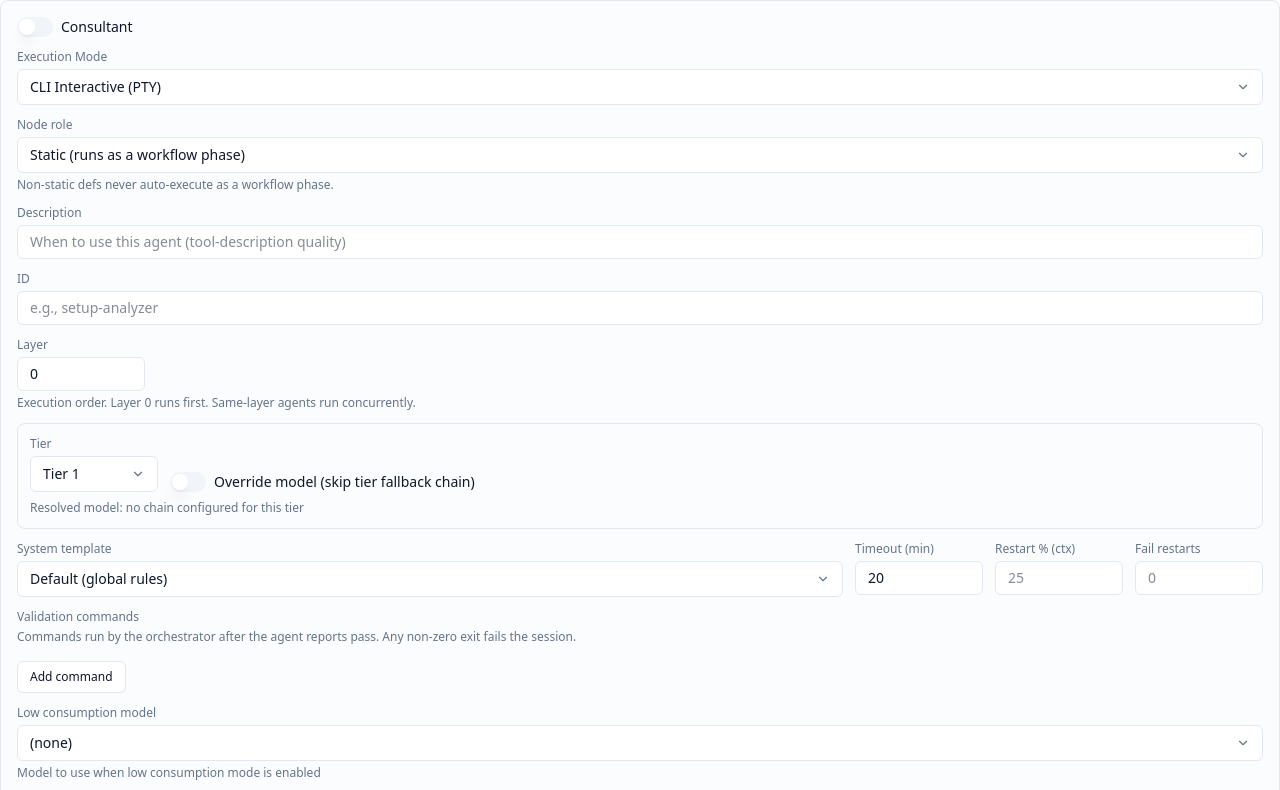
Test: AgentDefForm — consultant toggle › Layer and Restart fields visible again after toggling OFF
Click the switch named "Consultant" next to "Consultant" at point(35, 27), box left=17, top=17, right=53, bottom=37
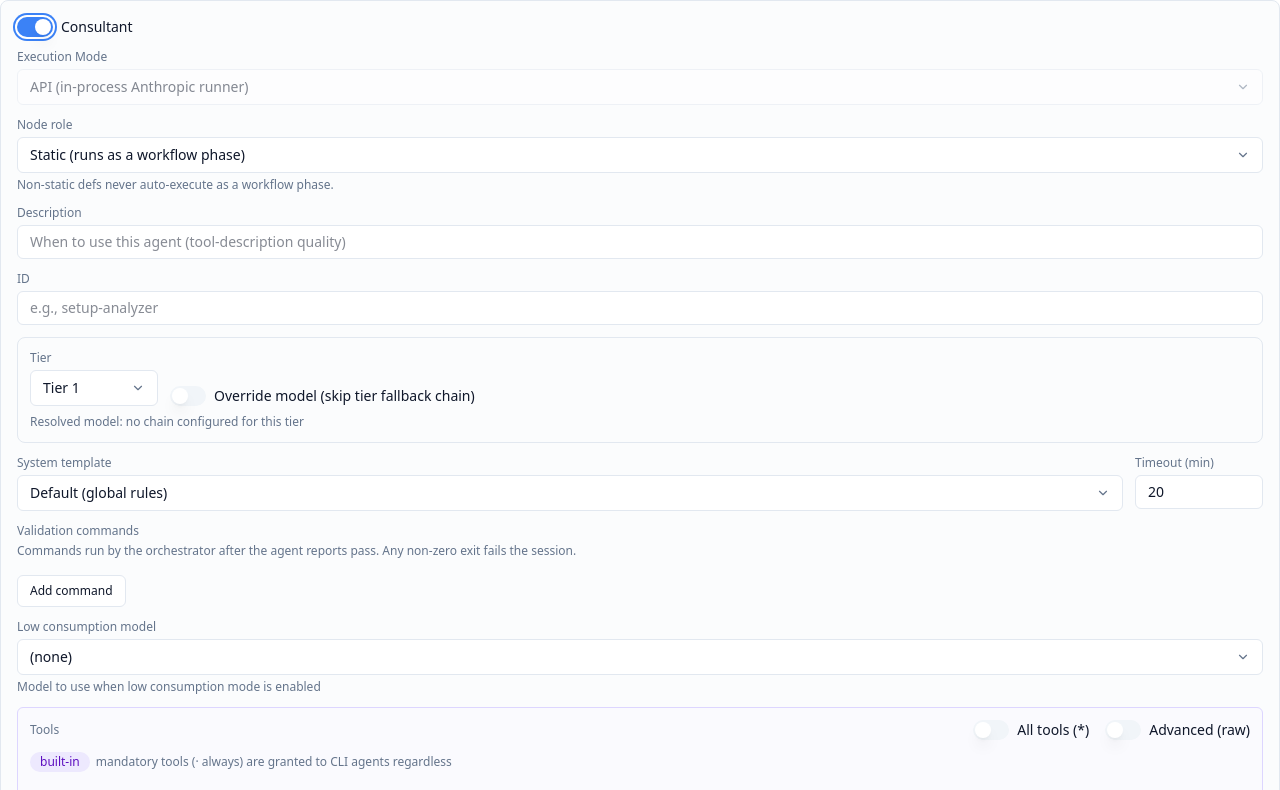
Check: the text "Layer" is gone
Click the switch named "Consultant" next to "Consultant" at point(35, 27), box left=17, top=17, right=53, bottom=37
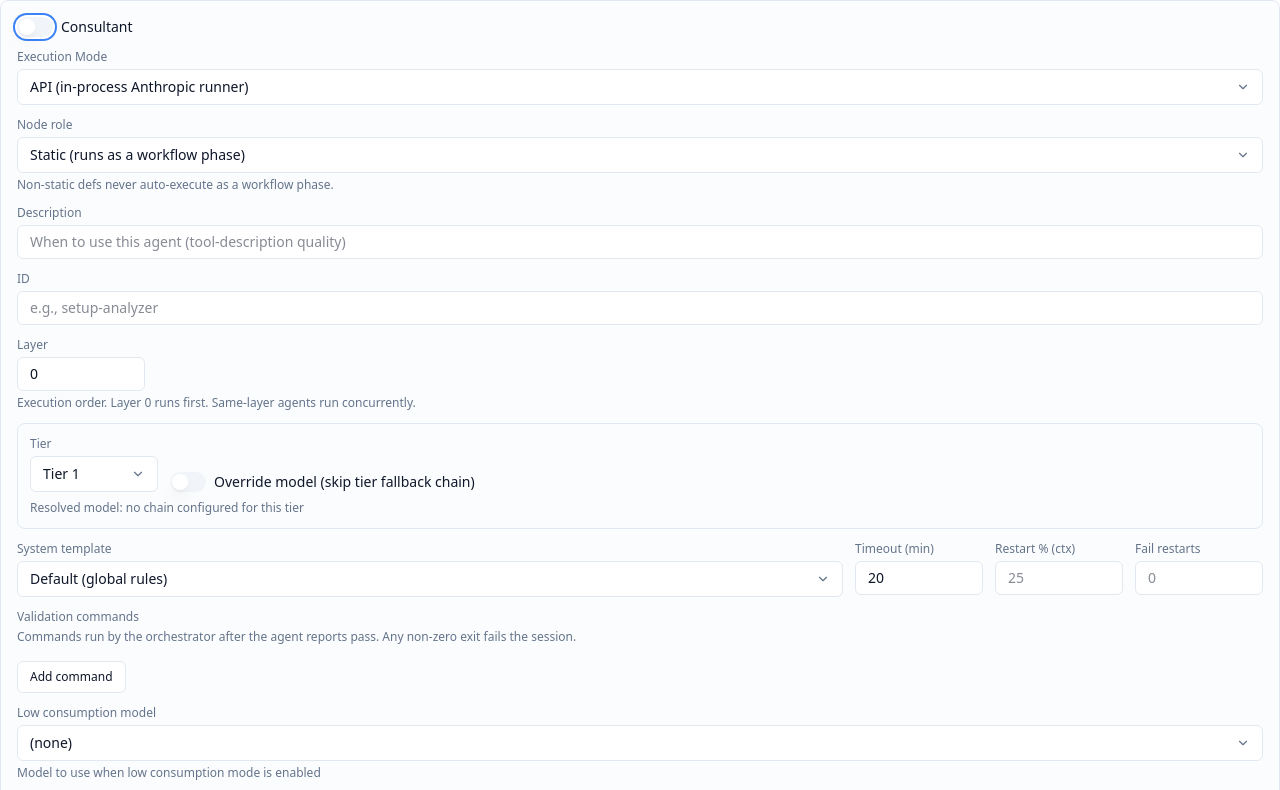
Check: the text "Layer" is shown, box left=17, top=336, right=48, bottom=353
Check: the number field with placeholder "25" is shown, box left=995, top=561, right=1123, bottom=595
